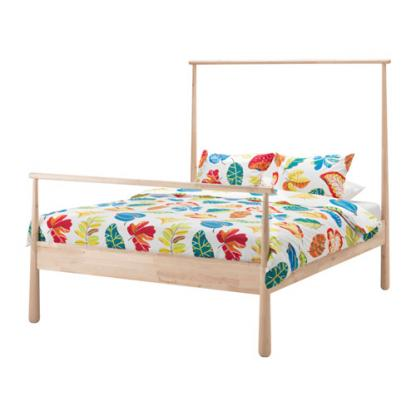Bed: (22, 56, 393, 358)
